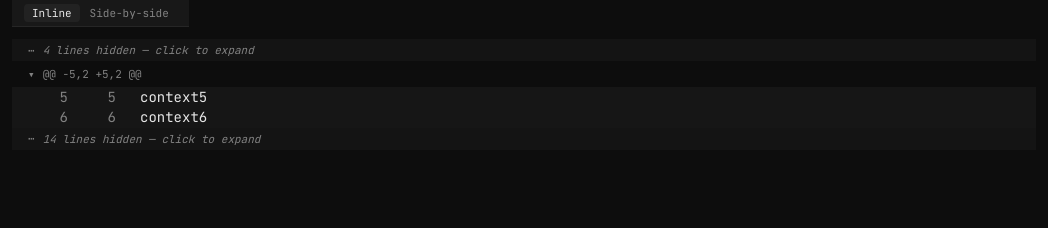
Test: diff-view-shortcuts-expand-context: inline gap affordance › 2.T1 — side-by-side renders gap rows spanning both columns and expands identically
Click the button "Side-by-side": (129, 13) [82, 4, 177, 22]
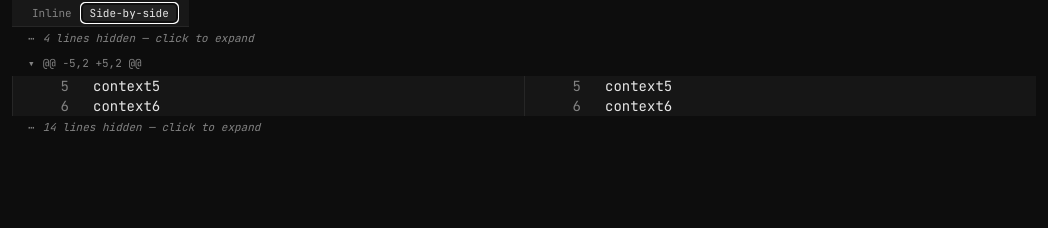
Expected: the element that starts with "4 lines hidden — click to expand" is shown, [12, 27, 1036, 138]
Click the button with aria-label "Expand 4 hidden lines": (148, 38) [12, 27, 1036, 49]
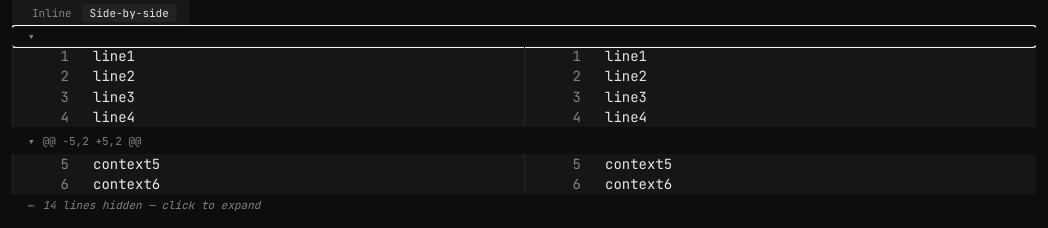
Expected: the 1st element with class "diff-line--context" shows "line1", [93, 47, 135, 65]
Expected: the 2nd element with class "diff-line--context" shows "line1", [605, 47, 647, 65]
